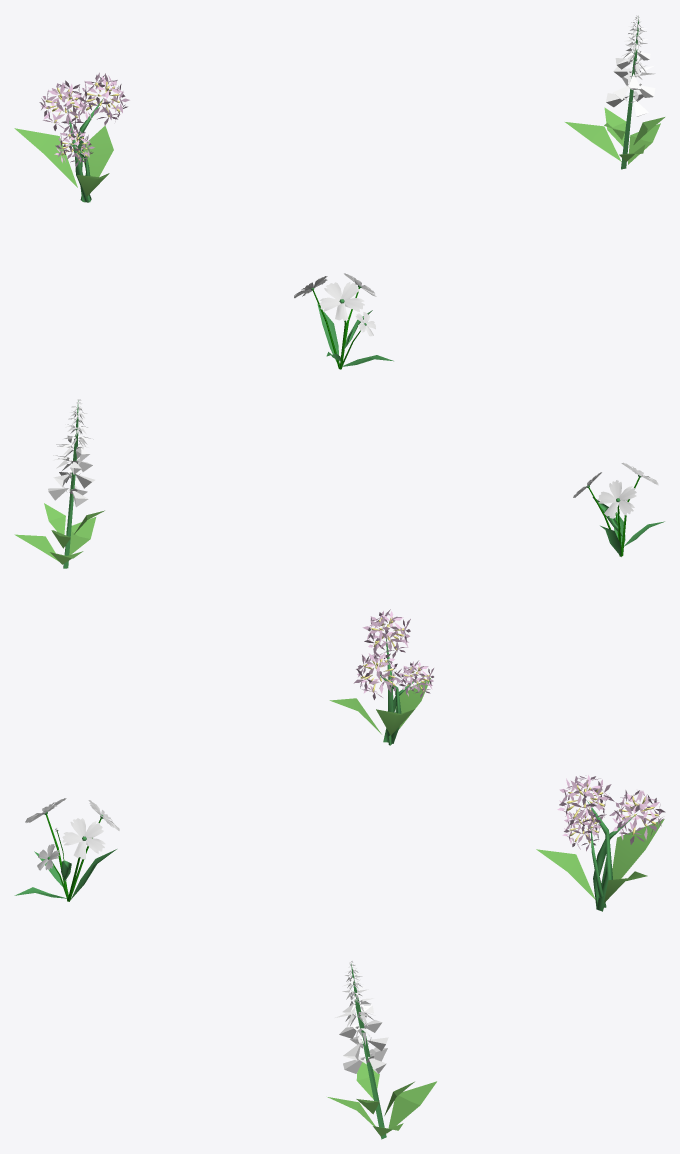
File: test fleur bosquet 1.fbx
3 renders of one model, top to bottom at view 1: azimuth 30°, elevation 25°; view 2: azimuth 150°, elevation 25°; view 3: azimuth 270°, elevation 25°, orthographic. The views are drawn at different scales.
Parts seen in each view (by area): view 1: Flower.030, Flower.001, Circle.008; view 2: Flower.030, Flower.001, Circle.008; view 3: Flower.030, Flower.001, Circle.008.
Boxes of the visible parts, x1,y1,x2,y2 form: Flower.030: (14,72,129,202); Flower.001: (565,15,664,169); Circle.008: (294,273,393,369); Flower.030: (329,609,433,745); Flower.001: (14,399,104,568); Circle.008: (573,462,664,556); Flower.030: (536,775,665,911); Flower.001: (327,960,436,1139); Circle.008: (14,798,119,901).
Bounding box in the file's own units: 1075 × 322 × 1071.
